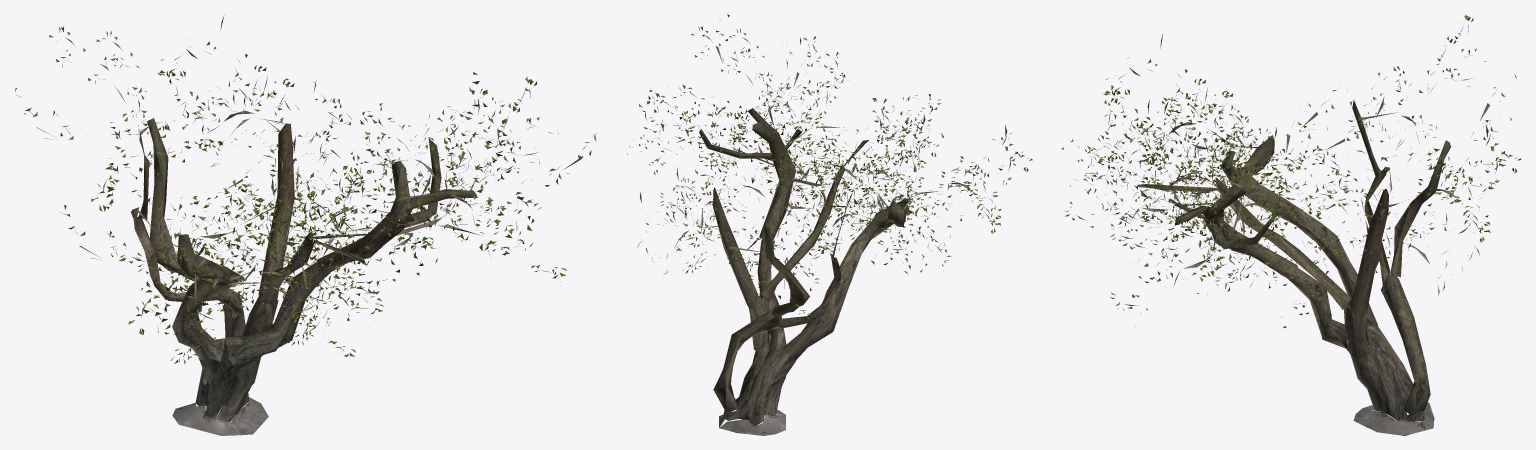
File: tree_island_02.glb
3 renders of one model, left to right at view 1: azimuth 30°, elevation 25°; view 2: azimuth 150°, elevation 25°; view 3: azimuth 270°, elevation 25°, orthographic. The views are drawn at different scales.
Visible parts, largest first — view 1: tree_island_02; view 2: tree_island_02; view 3: tree_island_02.
Part boxes in pixels (x1=…): tree_island_02: x1=15, y1=15, x2=596, y2=435; tree_island_02: x1=627, y1=14, x2=1032, y2=435; tree_island_02: x1=1061, y1=14, x2=1521, y2=435.
Bounding box in the file's own units: 7.85 × 7 × 8.35.
3 materials, 3 textured.
